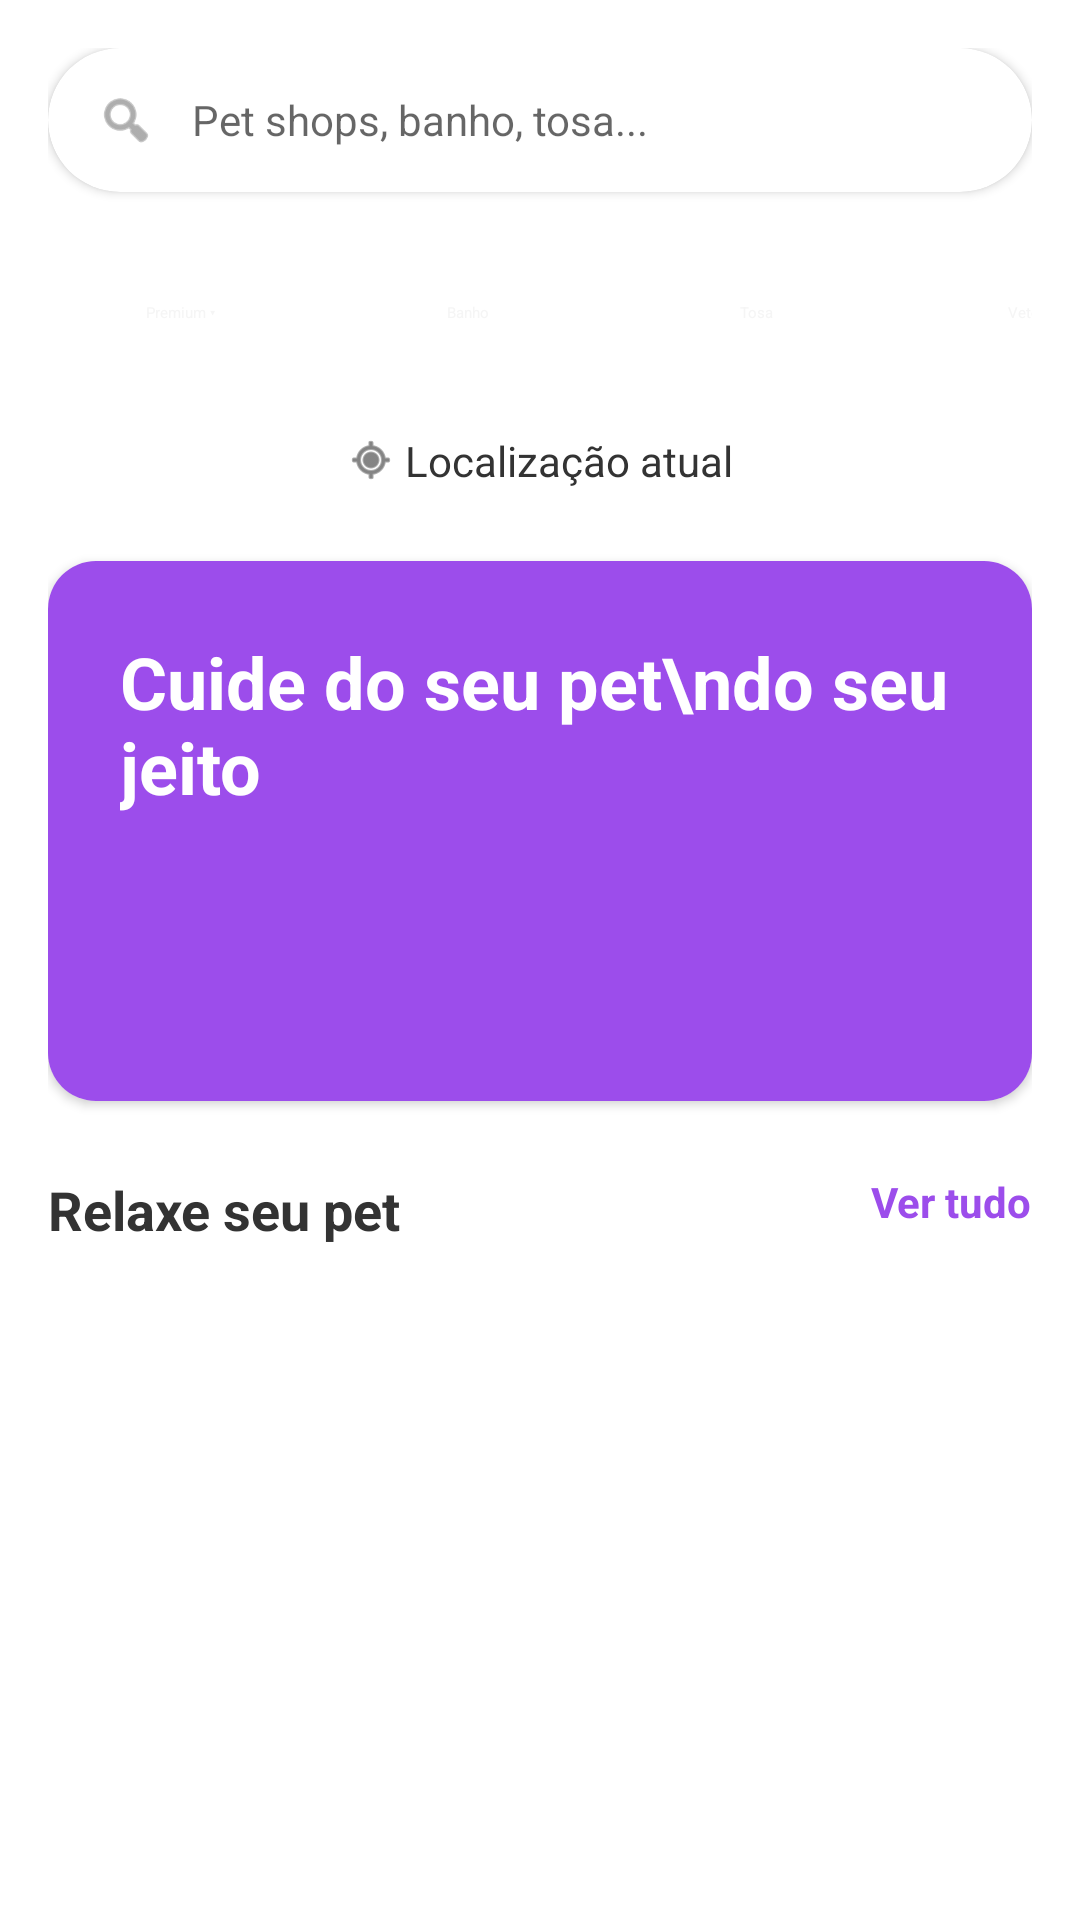

Where icons sit on this 1080×1920 app screen, as (x1, y1, x2, y2):
mylocation: (352, 441, 390, 479)
search: (104, 98, 148, 142)
